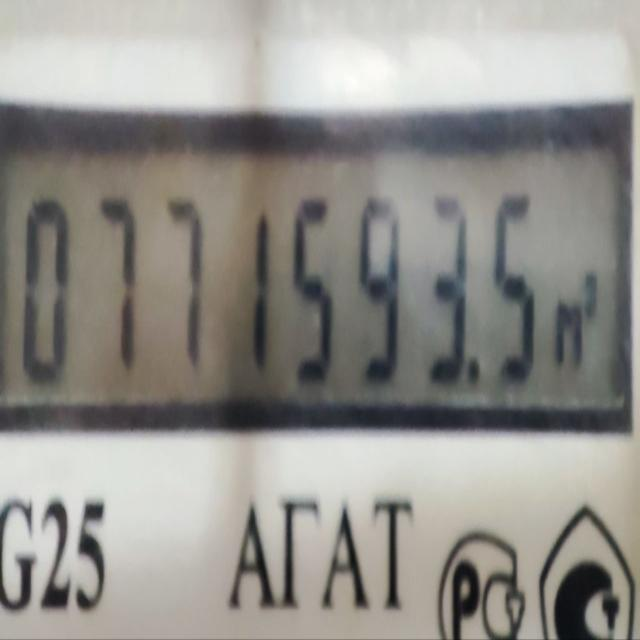.: (468, 356, 480, 385)
0: (21, 195, 69, 385)
1: (248, 200, 271, 382)
3: (429, 194, 468, 389)
5: (493, 194, 537, 392), (292, 200, 334, 382)
7: (162, 196, 205, 373), (96, 194, 138, 372)
9: (356, 200, 402, 383)
screen: (0, 143, 621, 410)
